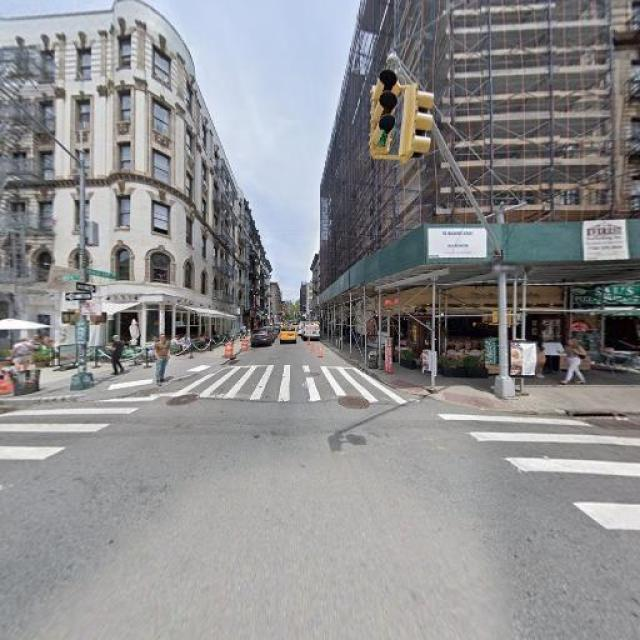Building: (327, 1, 628, 364), (1, 40, 262, 359)
